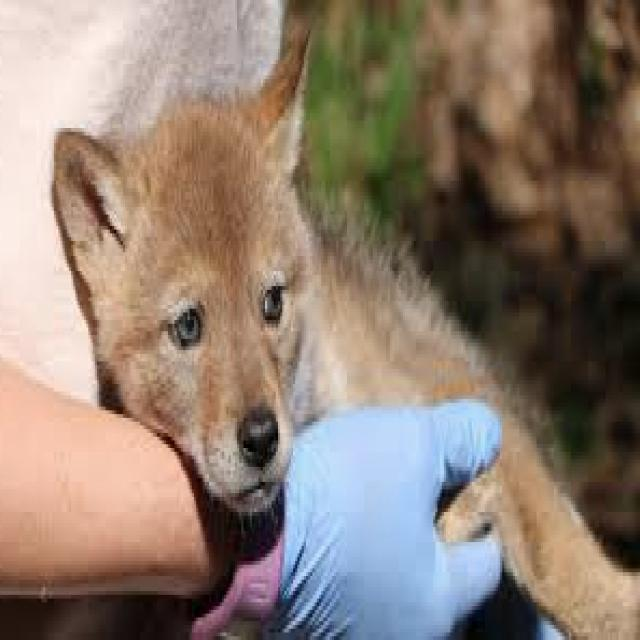coyote: (54, 26, 640, 636)
